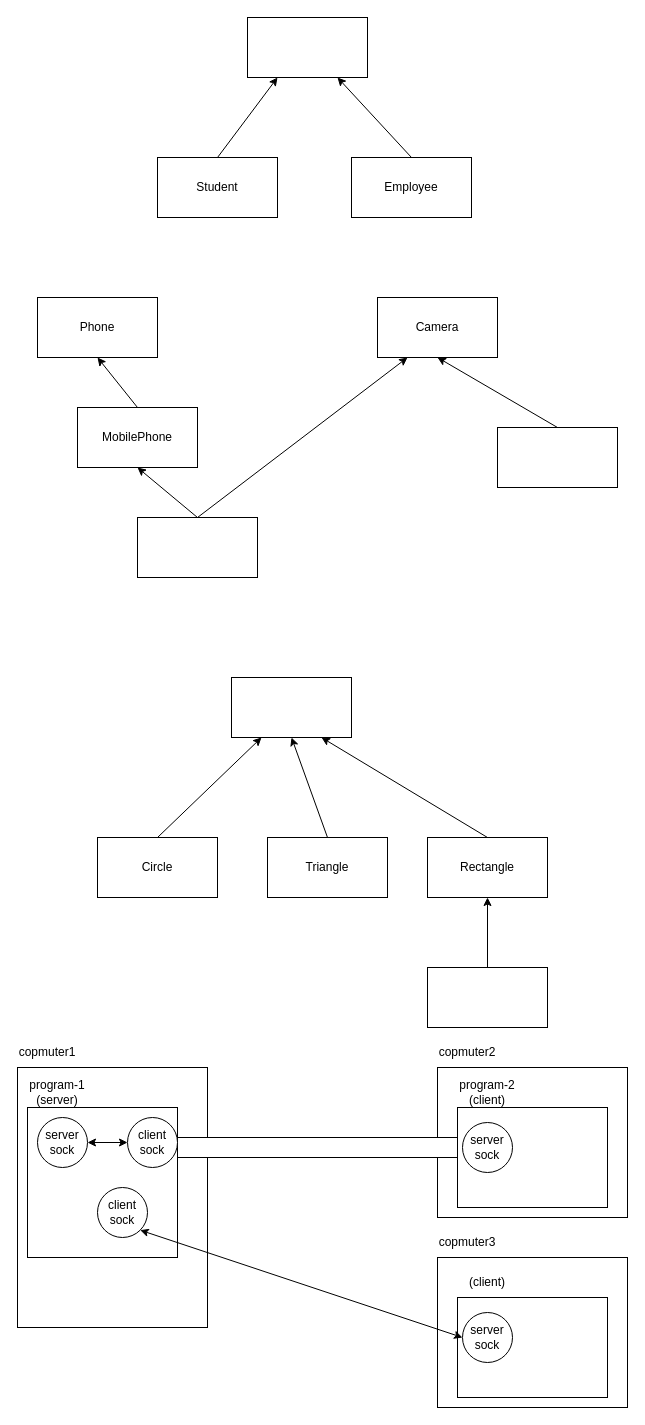
Some shapes in this 645 by 1425 pixel diagram are drawn without their labels. The shapes that lost their labels are listed below. From the top down, each one's centre as x and y in pixels, then its label:
(x=307, y=47): Person
(x=557, y=457): DigitalCamera
(x=197, y=547): SmartPhone
(x=291, y=707): GeometricShape
(x=487, y=997): Square
(x=317, y=1147): socket
